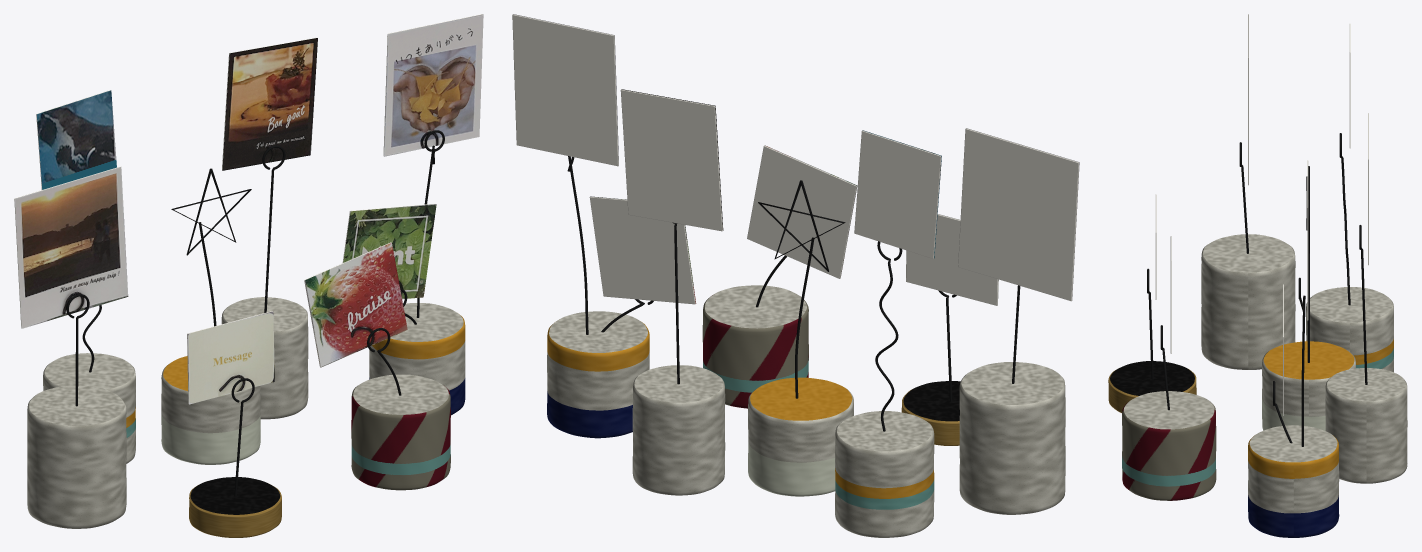
File: 06_futase_memo_stands.glb
3 renders of one model, left to right at view 1: azimuth 30°, elevation 25°; view 2: azimuth 150°, elevation 25°; view 3: azimuth 270°, elevation 25°, orthographic. The views are drawn at different scales.
Parts seen in each view (by area): view 1: 01 | natural tall / seaside | seaside card artwork.001, 01 | natural tall / seaside | handmade cylindrical base.001, 07 | cobalt yellow / mint and thanks | thanks card artwork.0, 06 | raspberry diagonal / strawberry | handmade cylindrical , 04 | natural / cake | cake card artwork.001, 06 | raspberry diagonal / strawberry | strawberry card artwo, 03 | white gold / star | handmade cylindrical base.001, 05 | charcoal disk / message | message card artwork.001, 07 | cobalt yellow / mint and thanks | handmade cylindrical , 02 | yellow aqua / penguin | penguin card artwork.001, 04 | natural / cake | handmade cylindrical base.001, 07 | cobalt yellow / mint and thanks | mint card artwork.001 (+4 smaller); view 2: 07 | cobalt yellow / mint and thanks | replaceable card back (×2), 01 | natural tall / seaside | replaceable card backing.001, 01 | natural tall / seaside | handmade cylindrical base.001, 04 | natural / cake | replaceable card backing.001, 02 | yellow aqua / penguin | handmade cylindrical base.001, 04 | natural / cake | handmade cylindrical base.001, 07 | cobalt yellow / mint and thanks | handmade cylindrical , 03 | white gold / star | handmade cylindrical base.001, 06 | raspberry diagonal / strawberry | handmade cylindrical , 06 | raspberry diagonal / strawberry | replaceable card back, 02 | yellow aqua / penguin | replaceable card backing.001, 05 | charcoal disk / message | replaceable card backing.001 (+3 smaller); view 3: 01 | natural tall / seaside | handmade cylindrical base.001, 06 | raspberry diagonal / strawberry | handmade cylindrical , 07 | cobalt yellow / mint and thanks | handmade cylindrical , 04 | natural / cake | handmade cylindrical base.001, 03 | white gold / star | handmade cylindrical base.001, 02 | yellow aqua / penguin | handmade cylindrical base.001, 05 | charcoal disk / message | handmade cylindrical base.001, 02 | yellow aqua / penguin | continuous loop clip.001, 04 | natural / cake | continuous loop clip.001, Thanks | rear stem.001.
Boxes of the visible parts, x1,y1,x2,y2 form: 01 | natural tall / seaside | seaside card artwork.001: (15, 167, 128, 328); 01 | natural tall / seaside | handmade cylindrical base.001: (27, 385, 126, 528); 07 | cobalt yellow / mint and thanks | thanks card artwork.0: (384, 14, 483, 156); 06 | raspberry diagonal / strawberry | handmade cylindrical : (351, 374, 450, 490); 04 | natural / cake | cake card artwork.001: (222, 38, 317, 170); 06 | raspberry diagonal / strawberry | strawberry card artwo: (304, 242, 407, 367); 03 | white gold / star | handmade cylindrical base.001: (161, 356, 260, 464); 05 | charcoal disk / message | message card artwork.001: (187, 311, 274, 404); 07 | cobalt yellow / mint and thanks | handmade cylindrical : (369, 303, 465, 415); 02 | yellow aqua / penguin | penguin card artwork.001: (36, 90, 116, 189); 04 | natural / cake | handmade cylindrical base.001: (221, 297, 308, 419); 07 | cobalt yellow / mint and thanks | mint card artwork.001: (343, 204, 436, 299); 07 | cobalt yellow / mint and thanks | replaceable card back (×2): (512, 14, 695, 304); 01 | natural tall / seaside | replaceable card backing.001: (958, 128, 1078, 301); 01 | natural tall / seaside | handmade cylindrical base.001: (959, 362, 1065, 514); 04 | natural / cake | replaceable card backing.001: (620, 89, 722, 231); 02 | yellow aqua / penguin | handmade cylindrical base.001: (835, 411, 934, 537); 04 | natural / cake | handmade cylindrical base.001: (632, 365, 725, 495); 07 | cobalt yellow / mint and thanks | handmade cylindrical : (547, 311, 649, 438); 03 | white gold / star | handmade cylindrical base.001: (748, 377, 853, 496); 06 | raspberry diagonal / strawberry | handmade cylindrical : (702, 285, 808, 408); 06 | raspberry diagonal / strawberry | replaceable card back: (747, 145, 856, 278); 02 | yellow aqua / penguin | replaceable card backing.001: (854, 130, 941, 258); 05 | charcoal disk / message | replaceable card backing.001: (906, 214, 997, 305); 01 | natural tall / seaside | handmade cylindrical base.001: (1201, 234, 1295, 369); 06 | raspberry diagonal / strawberry | handmade cylindrical : (1122, 391, 1216, 500); 07 | cobalt yellow / mint and thanks | handmade cylindrical : (1248, 425, 1339, 537); 04 | natural / cake | handmade cylindrical base.001: (1325, 368, 1407, 483); 03 | white gold / star | handmade cylindrical base.001: (1262, 341, 1355, 430); 02 | yellow aqua / penguin | handmade cylindrical base.001: (1306, 287, 1393, 372); 05 | charcoal disk / message | handmade cylindrical base.001: (1108, 361, 1196, 412); 02 | yellow aqua / penguin | continuous loop clip.001: (1339, 133, 1350, 305); 04 | natural / cake | continuous loop clip.001: (1359, 225, 1367, 384); Thanks | rear stem.001: (1301, 295, 1305, 446).
Size of the model in its own units: 2.17 by 1.53 by 1.18.
Materials: 17 (15 with a texture image).
